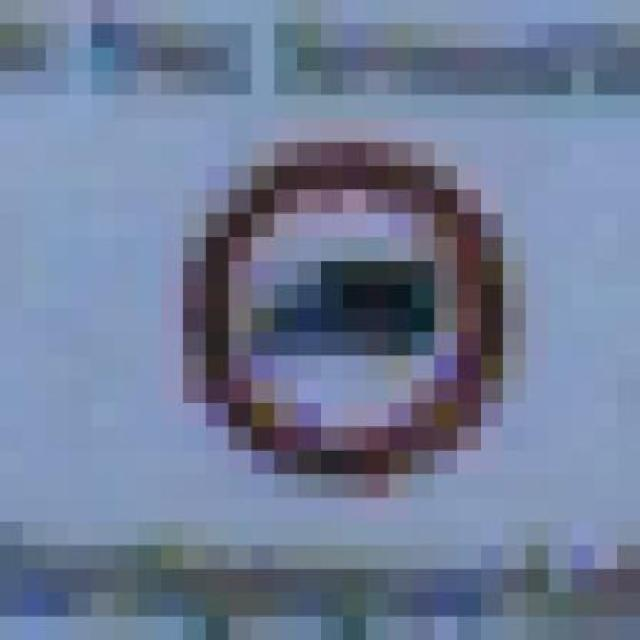Truck traffic is prohibited: (160, 119, 549, 522)
